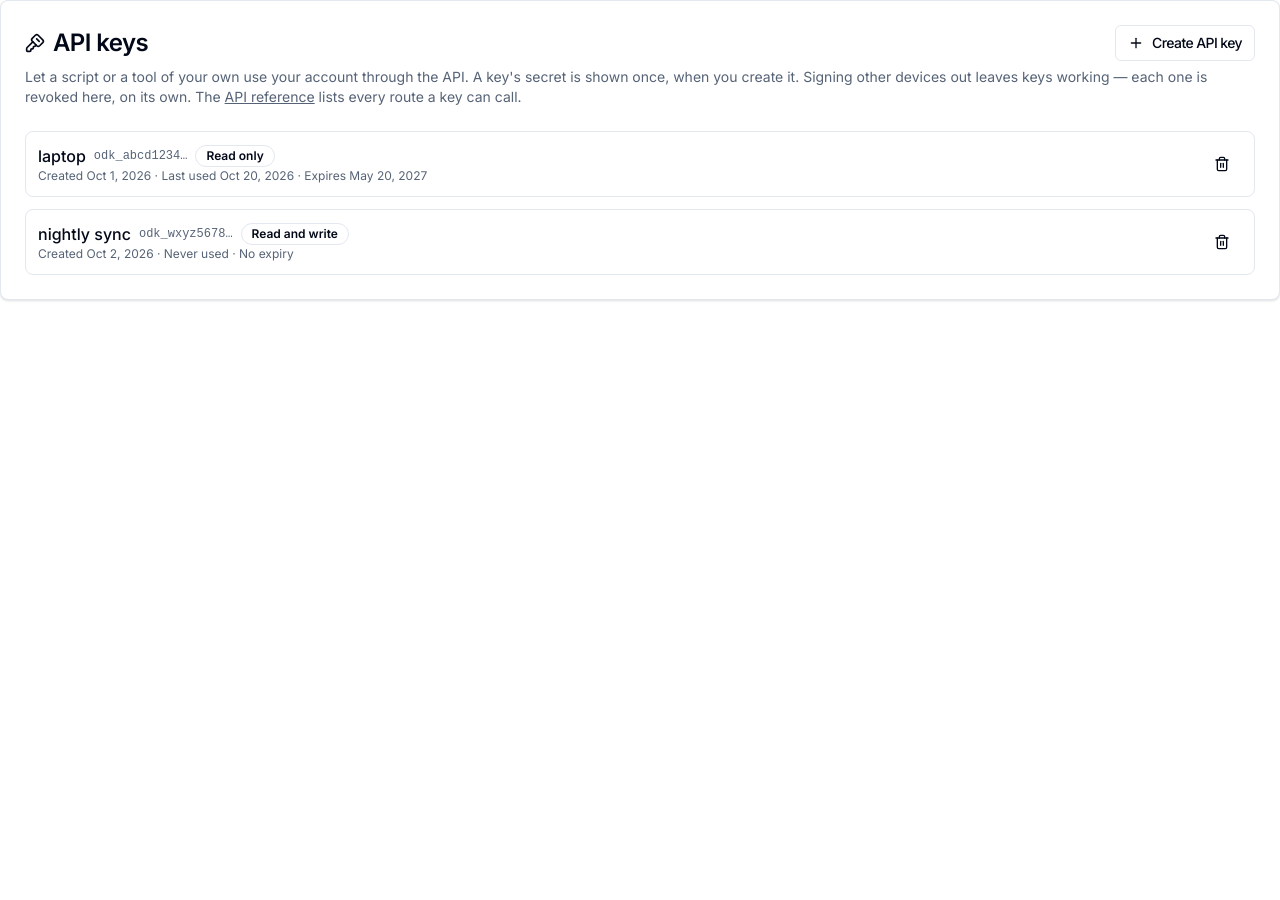
Test: ApiKeysCard › revokes a key only after the confirmation
This screenshot has width=1280, height=900.
Check: the text "laptop" is shown, box top-left (38, 144), bottom-right (86, 168)
Click the button named "Revoke laptop": [1222, 164] box top-left (1202, 146), bottom-right (1242, 182)
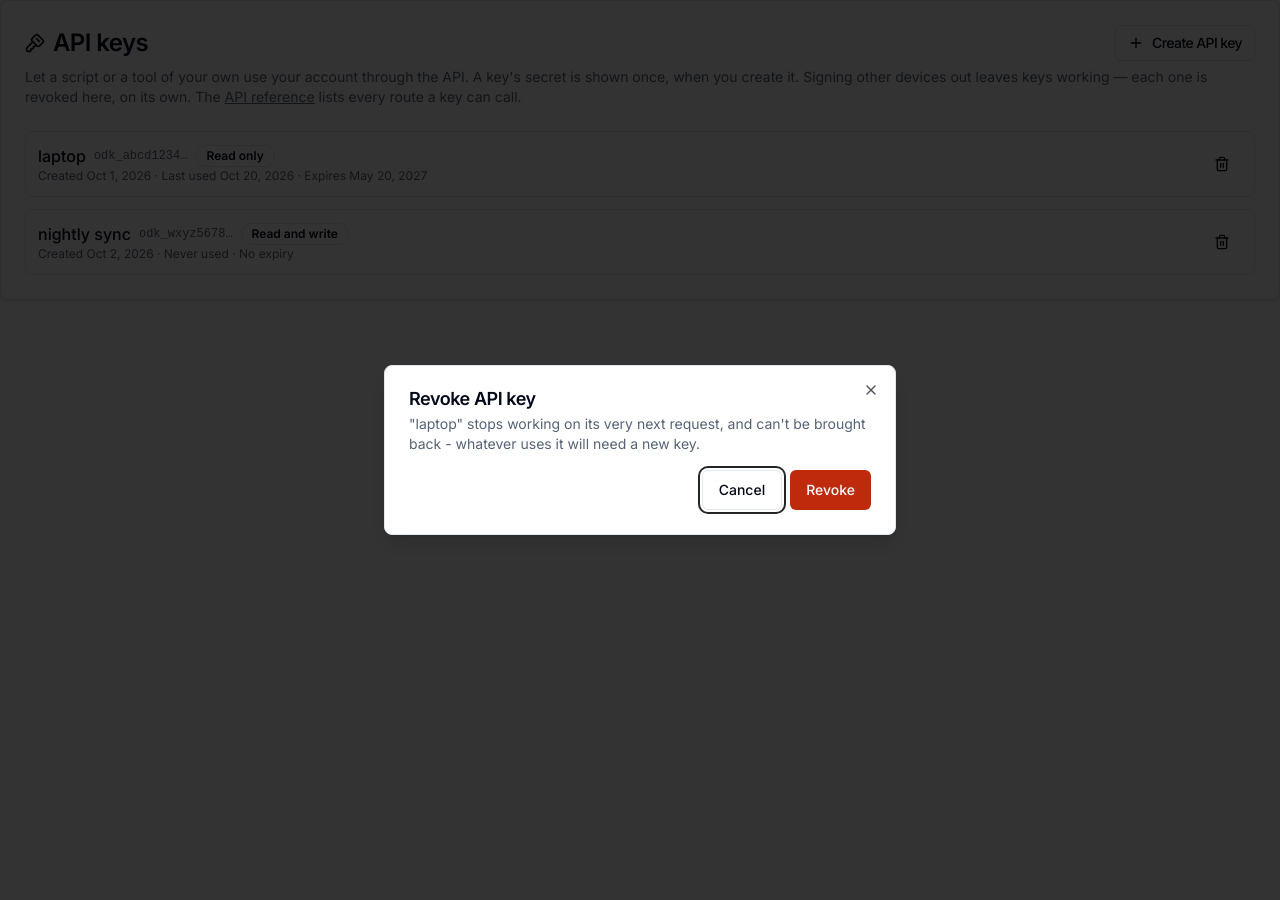
Check: the dialog shows "Revoke API key", box top-left (409, 388), bottom-right (536, 409)
Check: the dialog shows "stops working on its very next request", box top-left (409, 415), bottom-right (866, 452)
Click the button "Revoke": [831, 490] box top-left (790, 470), bottom-right (871, 510)
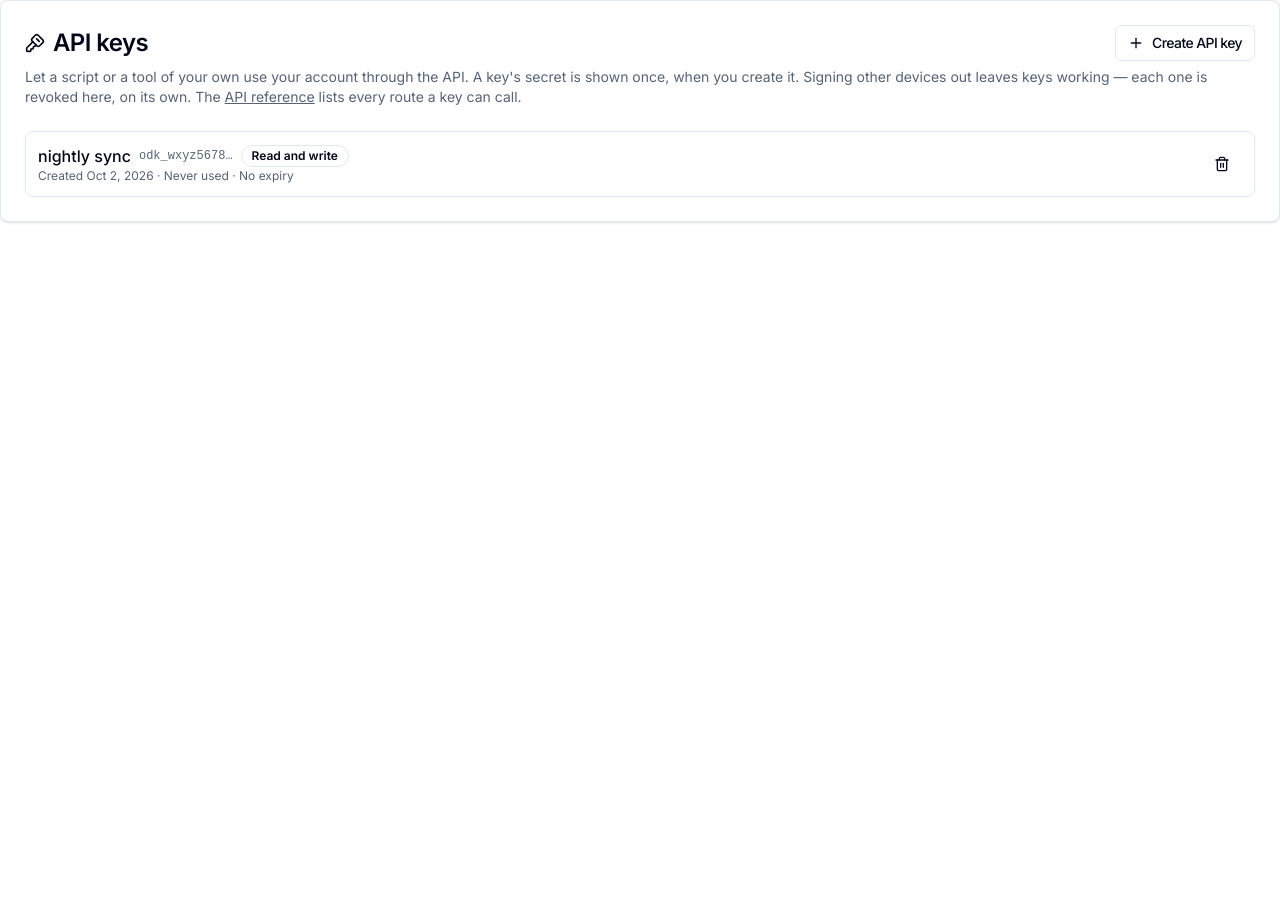
Check: the text "laptop" is gone
